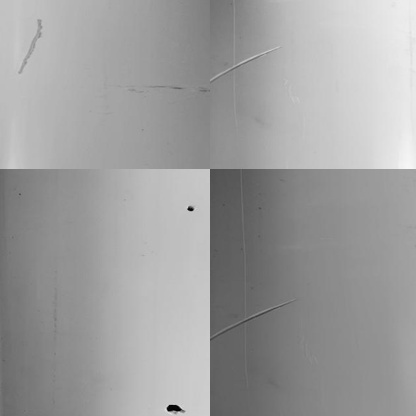kongdong: (161, 401, 187, 416), (182, 202, 195, 214)
sunshang: (213, 297, 304, 336), (218, 43, 279, 91), (18, 17, 45, 77)
